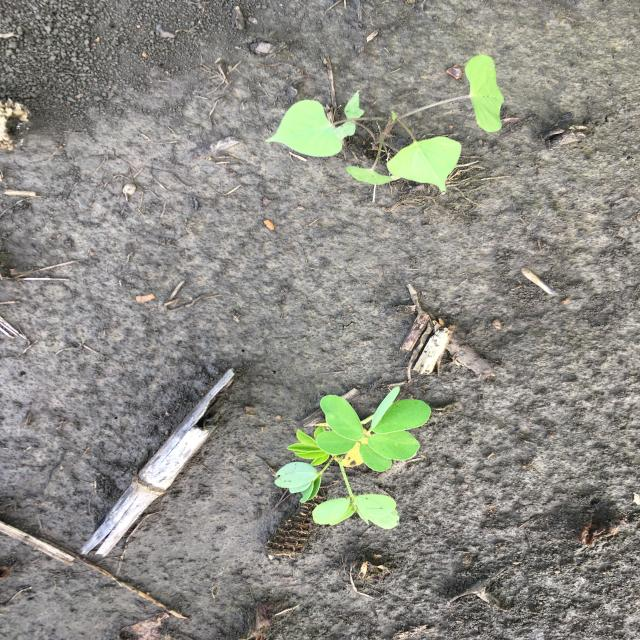MorningGlory: (261, 53, 508, 196)
Sicklepod: (274, 386, 433, 529)
